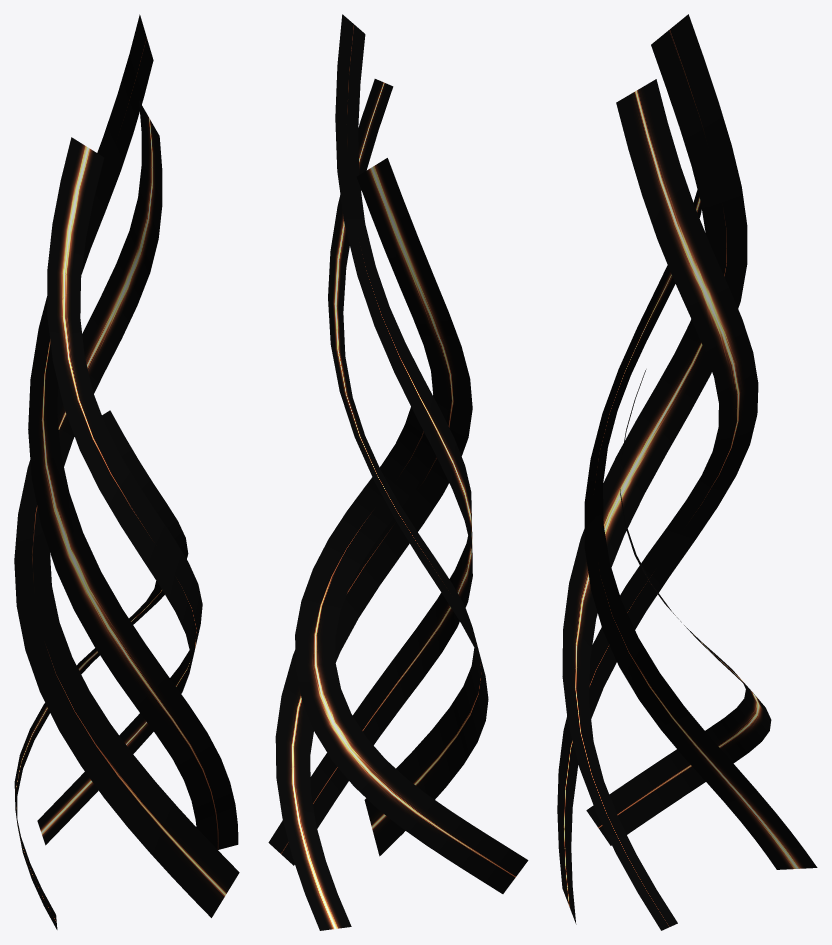
The model's file is luoxuanxian_chuansong.FBX.
The picture shows the model from 3 angles, left to right: view 1: azimuth 30°, elevation 25°; view 2: azimuth 150°, elevation 25°; view 3: azimuth 270°, elevation 25°; orthographic projection. The views are drawn at different scales.
Visible parts, largest first — view 1: Fx_jineng_tiaokan_fire2; view 2: Fx_jineng_tiaokan_fire2; view 3: Fx_jineng_tiaokan_fire2.
Part boxes in pixels (left/top/right/bottom): Fx_jineng_tiaokan_fire2: left=14, top=14, right=239, bottom=929; Fx_jineng_tiaokan_fire2: left=268, top=14, right=528, bottom=930; Fx_jineng_tiaokan_fire2: left=557, top=14, right=817, bottom=930.
Size of the model in its own units: 75.31 by 285 by 74.42.
